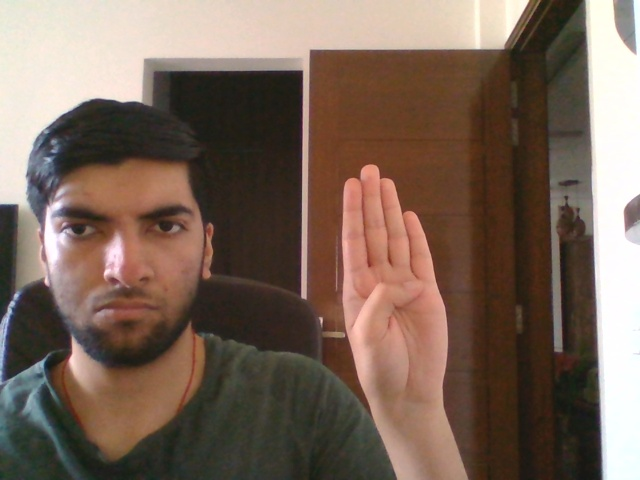LetterB: (340, 163, 451, 407)
